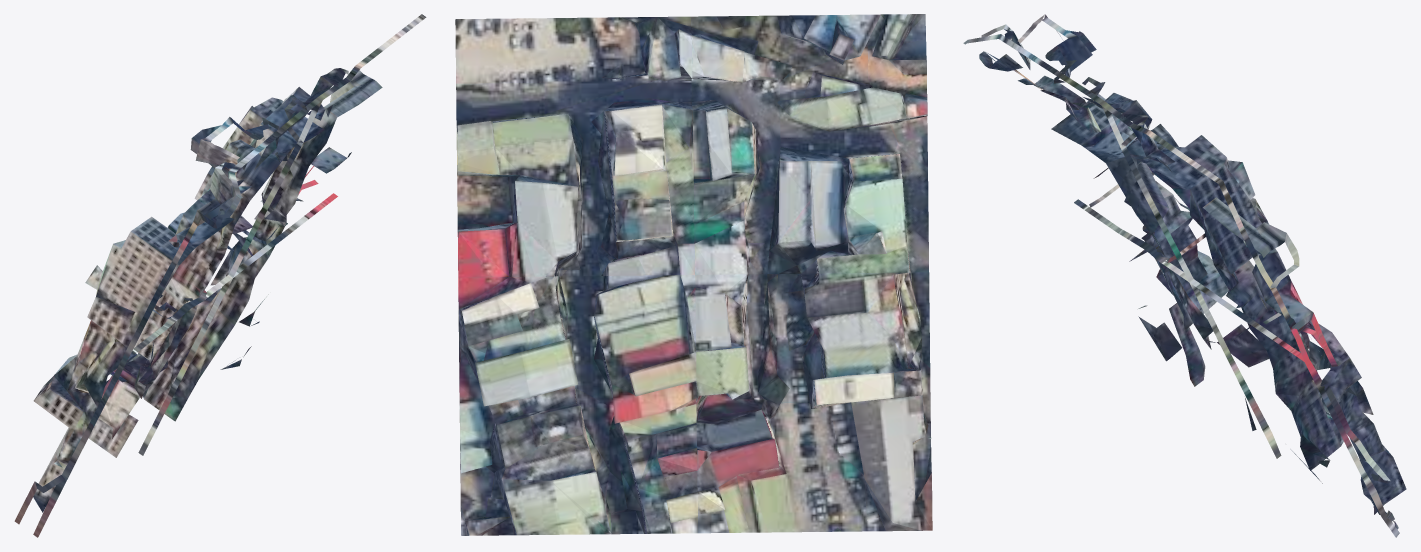
The picture shows the model from 3 angles, left to right: view 1: azimuth 30°, elevation 25°; view 2: azimuth 150°, elevation 25°; view 3: azimuth 270°, elevation 25°; orthographic projection. The views are drawn at different scales.
Size of the model in its own units: 156 by 144 by 139.
1 material, 1 textured.
